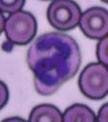N: (26, 31, 82, 94)
